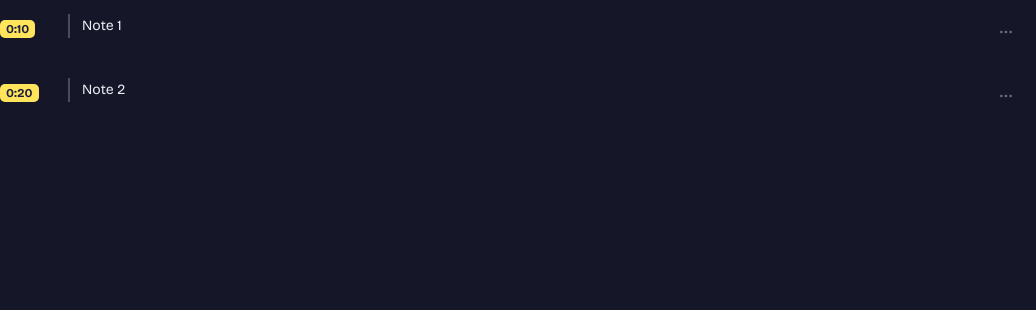
Test case: allows only one active row and keeps a failed delete available to retry
The image size is (1036, 310).
Click the button named "Moment actions" in the row of "Note 1": point(1006, 32) [988,14,1024,50]
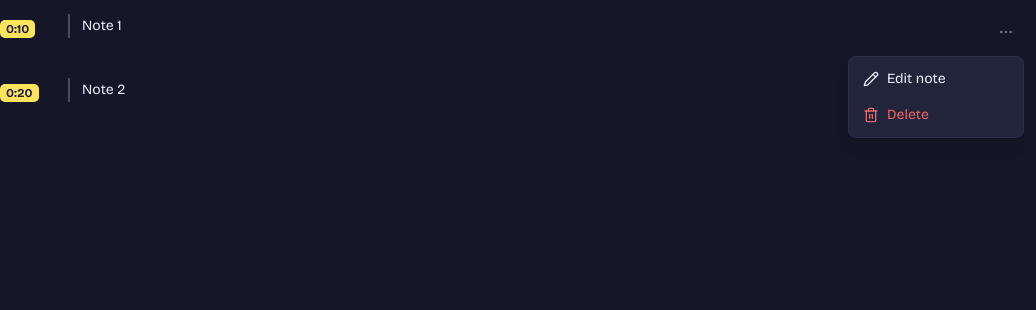
Click the menu item "Edit note": point(904, 78) [863,70,946,87]
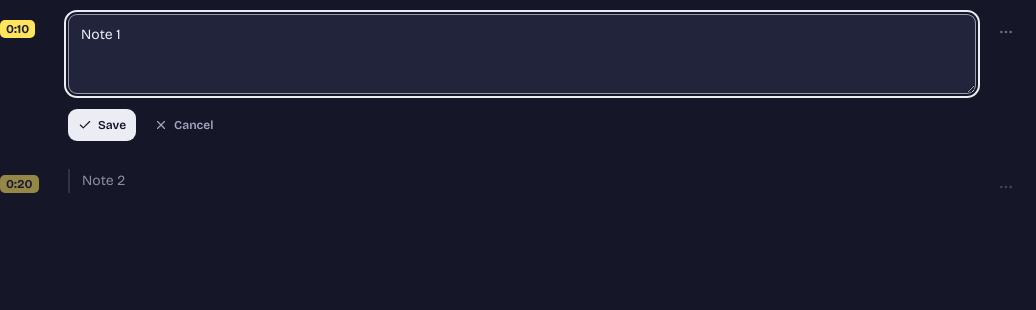
Expected: the text box is shown, [68,14,976,94]
Click the button named "Moment actions" in the row of "Note 2": point(1006, 187) [988,169,1024,205]
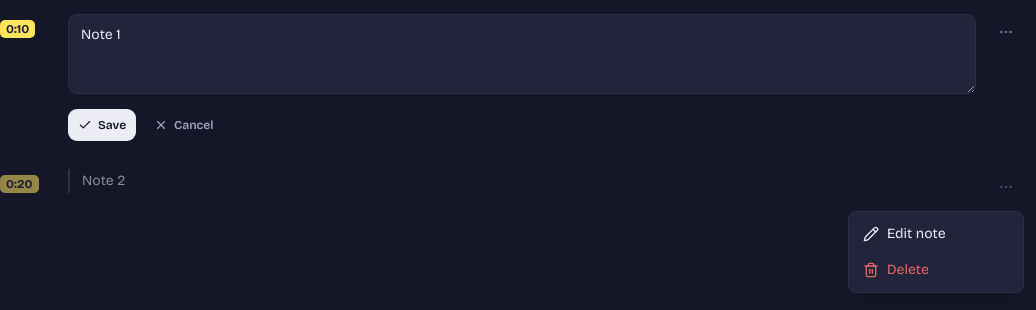
Click the menu item "Delete": point(896, 270) [863,261,929,278]
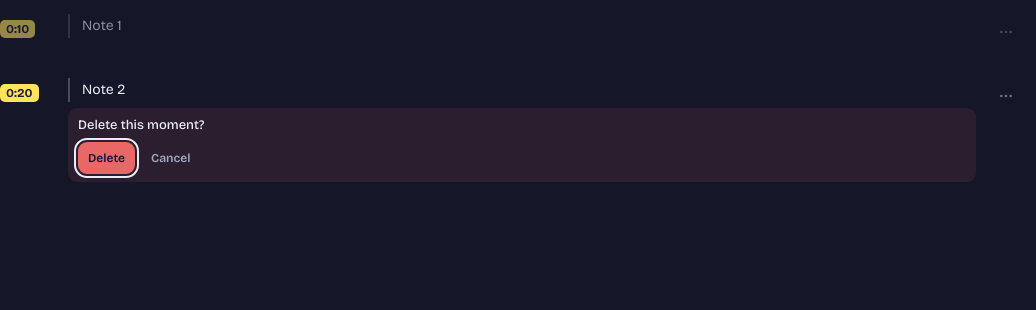
Expected: the text "Delete this moment?" is shown once, [78,117,204,133]
Click the button "Delete": point(106, 158) [78,142,135,174]
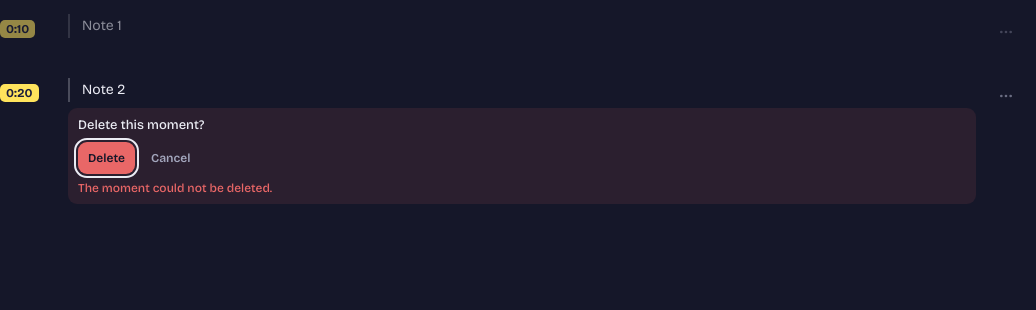
Expected: the message "The moment could not be deleted." is shown, [78,180,272,194]
Click the button "Delete": point(106, 158) [78,142,135,174]
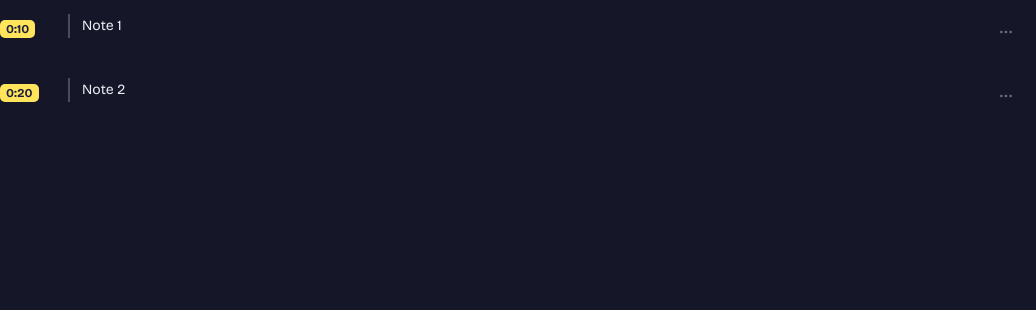
Expected: the text "Delete this moment?" is gone
